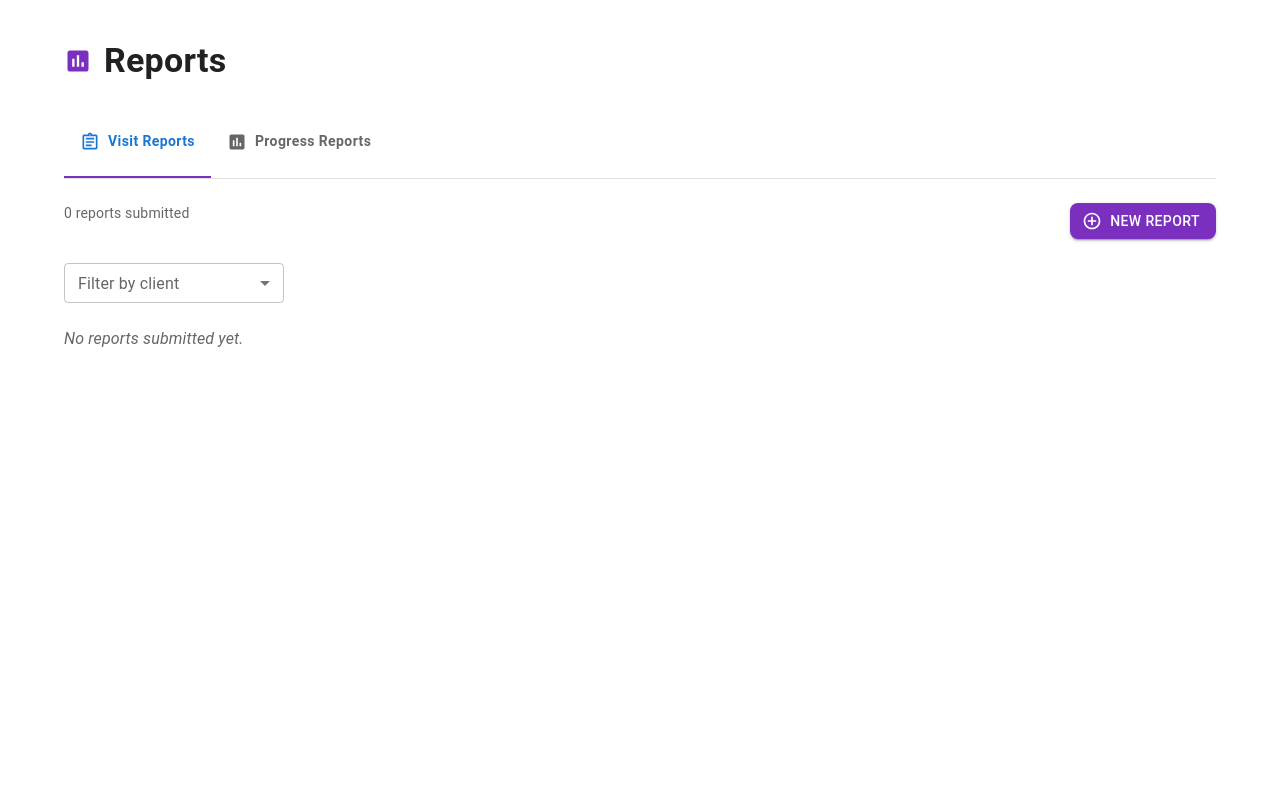
Scenario: ReportsPage › New Report button › opens the appointment picker dialog on click
Expected: the text "No reports submitted yet." is shown, [64,330,244,348]
What coordinates should you click on to do the following:
click the button "New Report"
I would click on:
 (1143, 221)
Its box is [1070,203,1216,240].
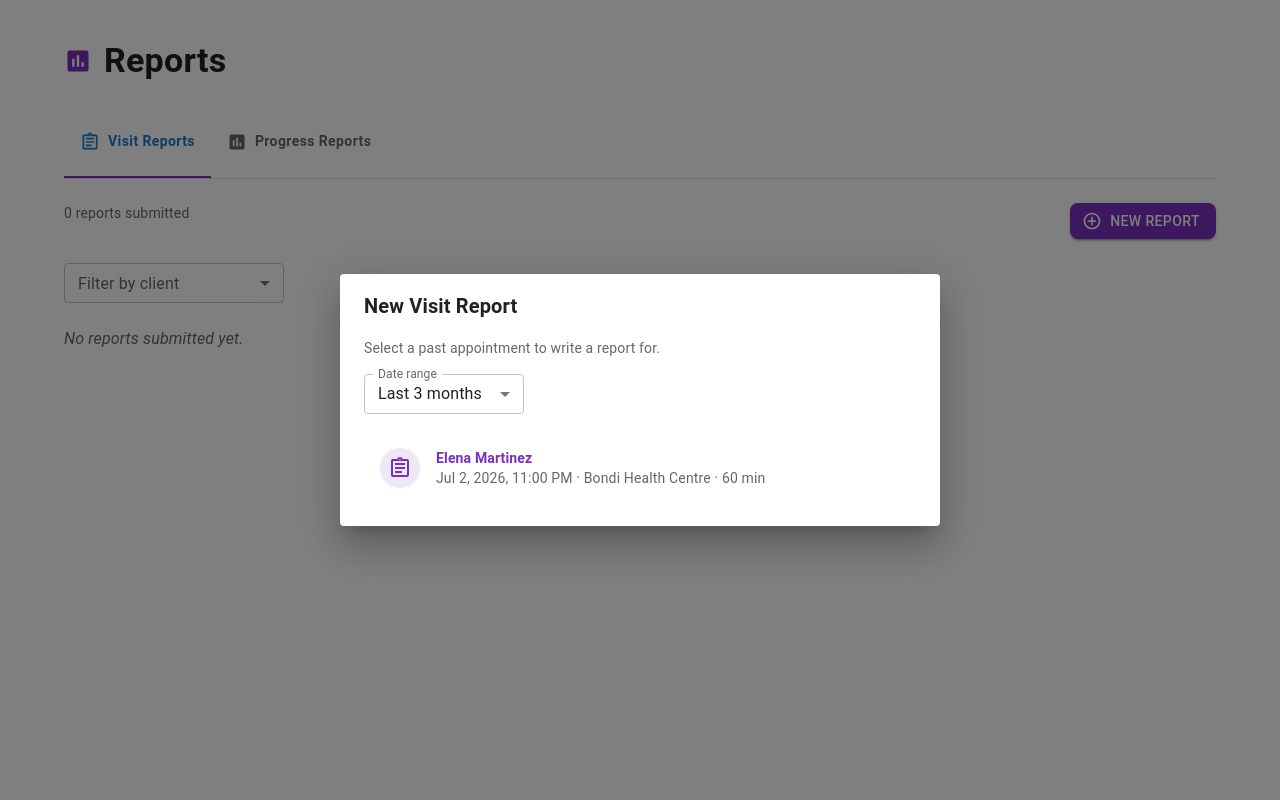
Now the text "Select a past appointment to write a report for." is shown, box [364,340,660,356]
